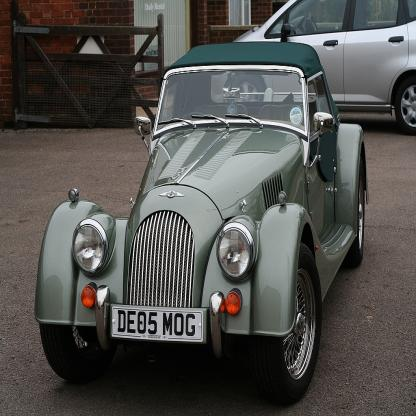Car: (36, 43, 370, 407), (236, 1, 416, 132)
